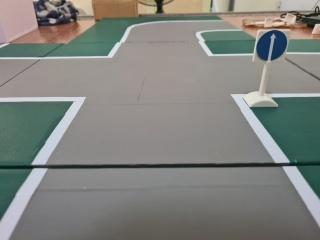straight: (255, 28, 290, 67)
